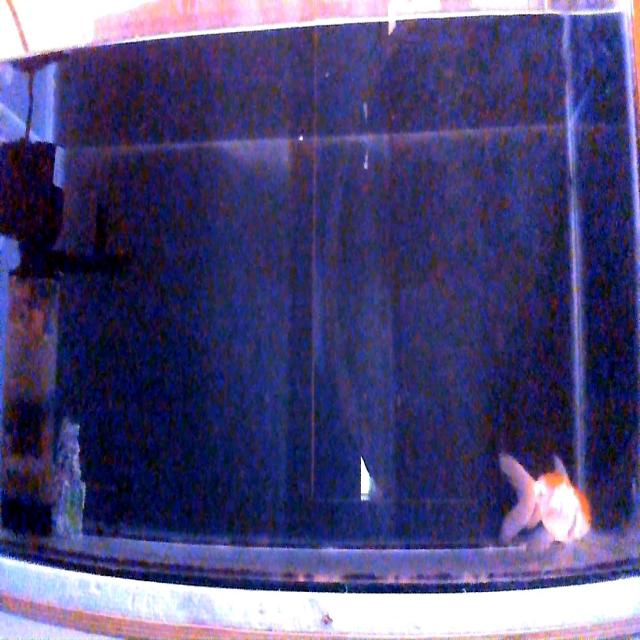fish: (497, 450, 592, 548)
